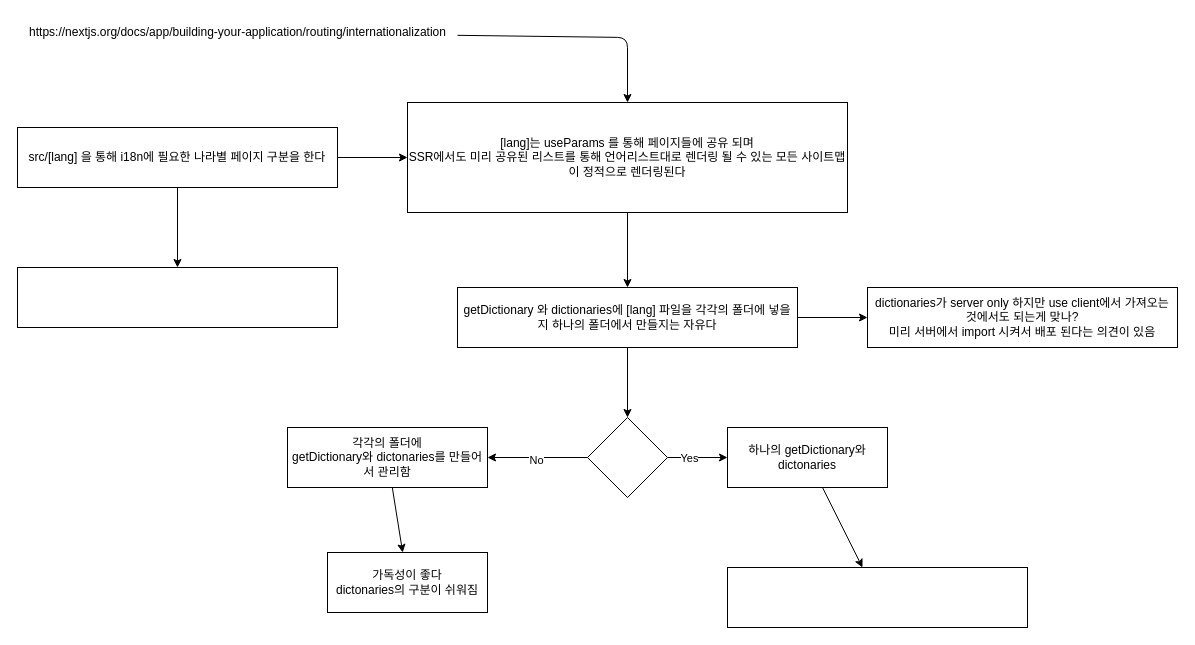
The diagram is 1195 pixels wide and 645 high, and some of its shapes have lost their labels. The centre of each missing label's shape, as x and y in pixels:
"src/middleware.ts 로 페이지 리디렉션을 수행한다 과정에서 hash 값은 사라진다" goes at point 177,297.
"컴포넌트 별로 네이밍 매칭을 시켜주면서 임포트해야한다 임포트에도 init 코드가 좀 더 길어질 수 있다 초기 네이밍 매칭에 시간이 좀 쓰일 듯" goes at point 877,597.
"하나의dictionaries" goes at point 627,457.
